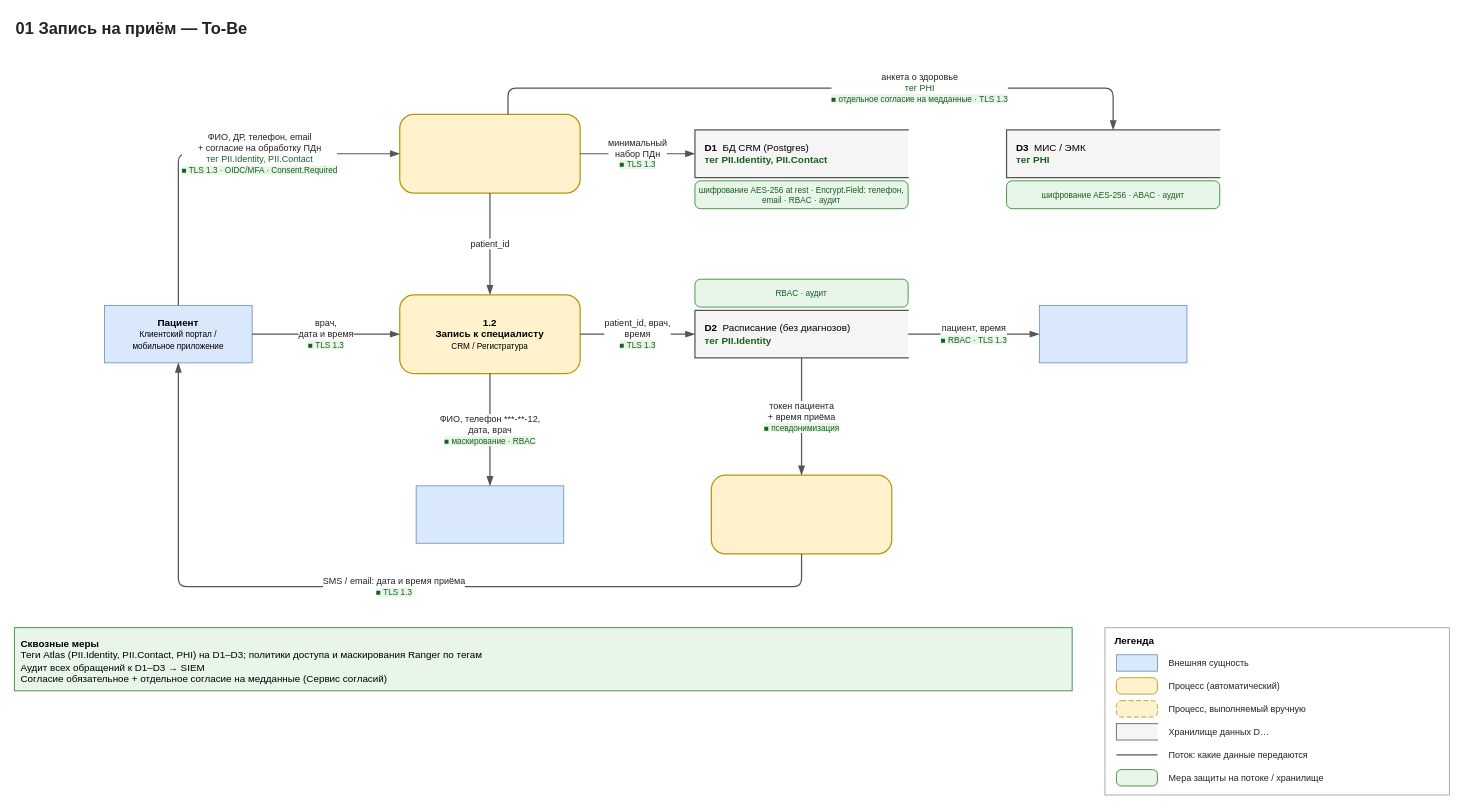
The diagram is 1464 pixels wide and 809 high, and some of its shapes have lost their labels. The centre of each missing label's shape, as x and y in pixels:
"1.1 Регистрация пациента CRM / Регистратура" belongs at point 489,153.
"1.3 Напоминание о приёме Сервис уведомлений" belongs at point 801,514.
"Врач" belongs at point 1113,334.
"Сотрудник ресепшена Портал ресепшена" belongs at point 489,514.
